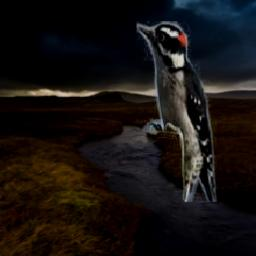Woodpecker: (138, 21, 218, 202)
